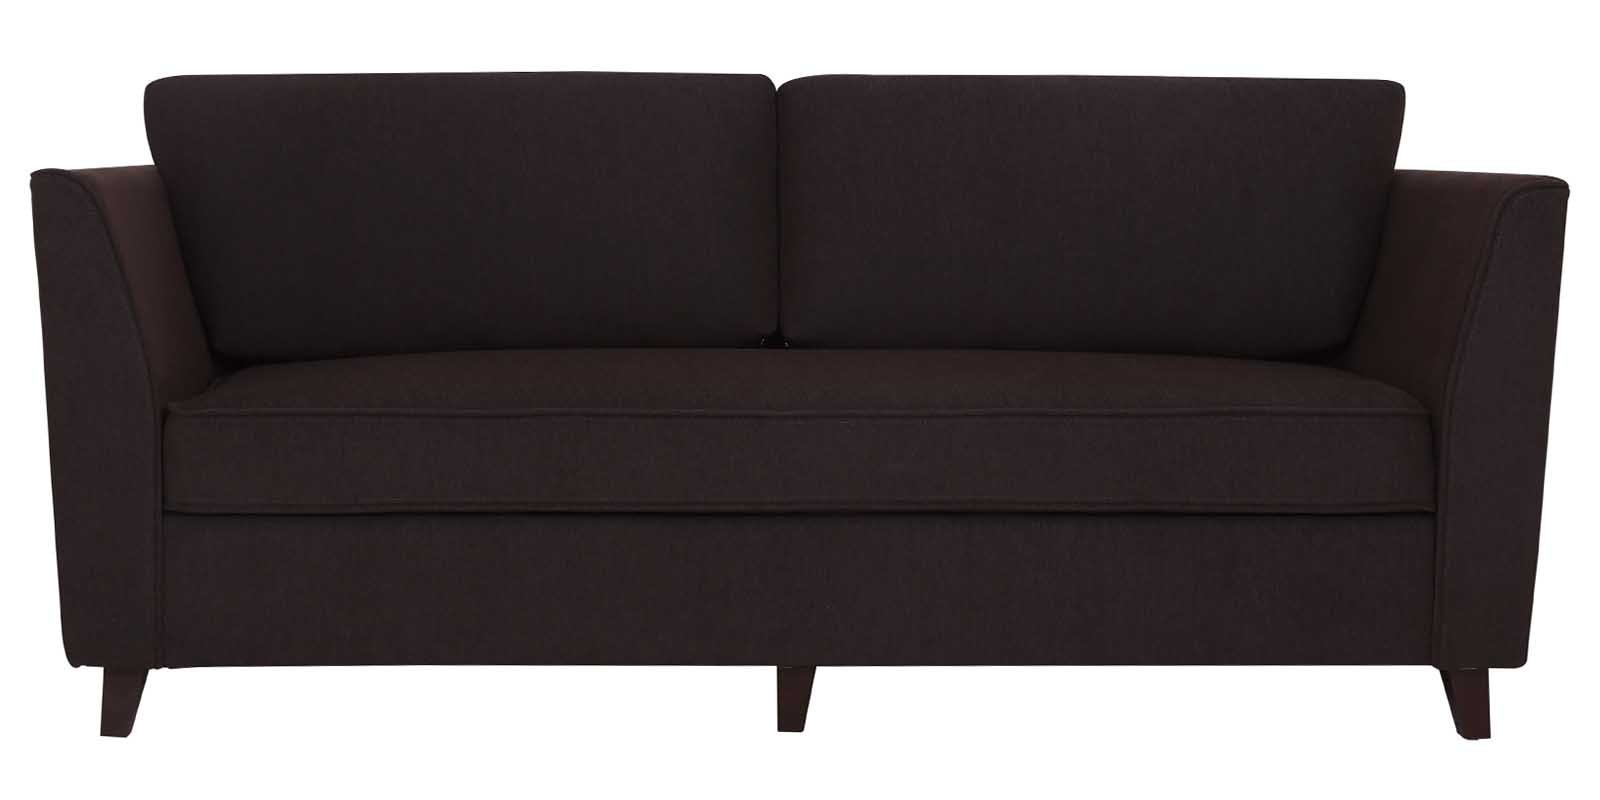Miranda Three Seater Sofa in Chestnut Brown Colour by CasaCraft: (26, 70, 1570, 739)
